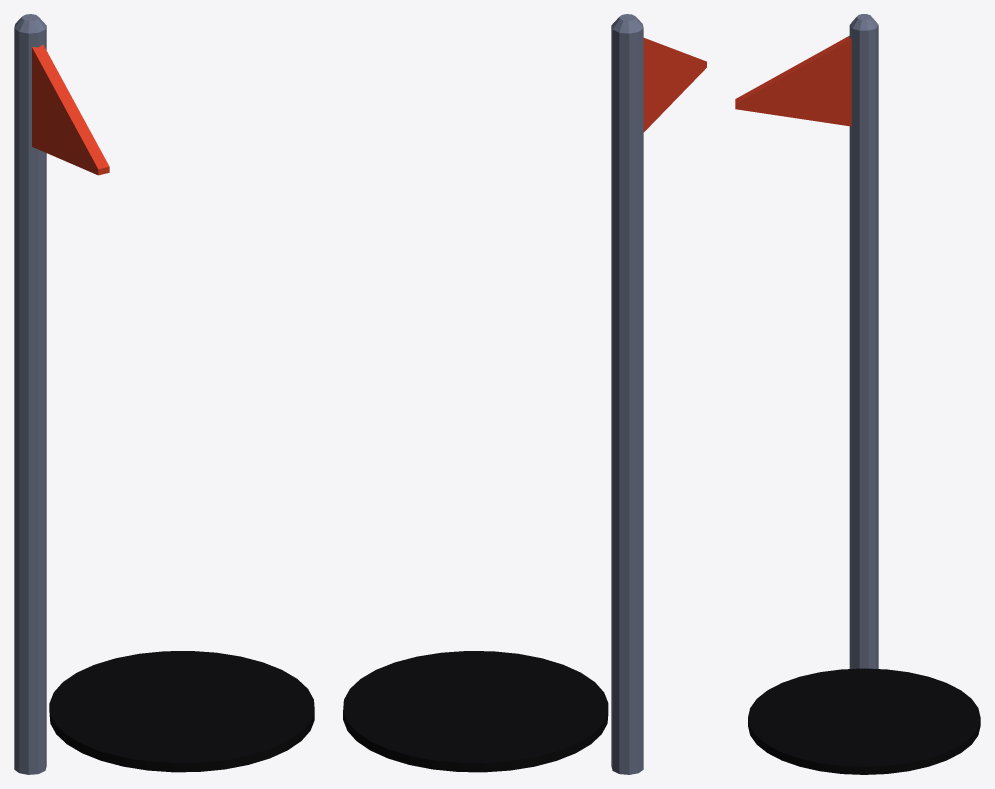
The model's file is FlagWithHole.fbx.
3 views of the same model, side by side, from view 1: azimuth 30°, elevation 25°; view 2: azimuth 150°, elevation 25°; view 3: azimuth 270°, elevation 25° (orthographic). The views are drawn at different scales.
Parts seen in each view (by area): view 1: Cylinder; view 2: Cylinder; view 3: Cylinder.
Part boxes in pixels (x1=…): Cylinder: x1=14, y1=14, x2=314, y2=774; Cylinder: x1=343, y1=14, x2=706, y2=774; Cylinder: x1=735, y1=14, x2=980, y2=774.
Bounding box in the file's own units: 392 × 453 × 1158.
